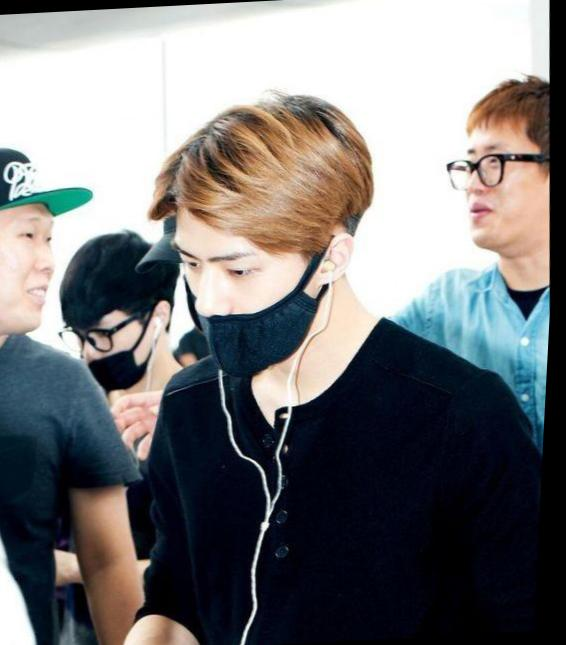NONE: (458, 137, 557, 248), (1, 218, 69, 331)
WRONG: (173, 232, 322, 375), (69, 310, 166, 393)
